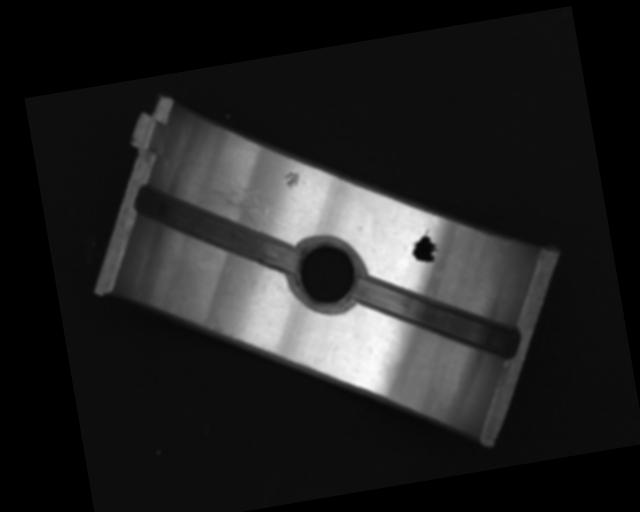blot: (407, 227, 441, 267)
bruise: (283, 169, 306, 189)
gap: (132, 163, 299, 297), (357, 253, 520, 380)
hole: (286, 235, 366, 314)
scratch: (190, 171, 270, 240)
